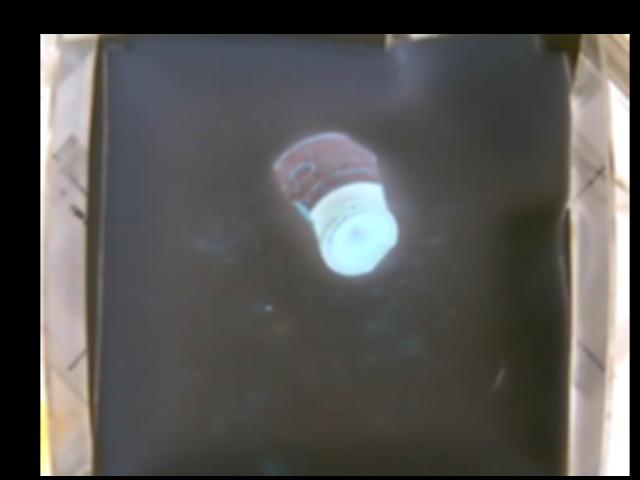China: (275, 133, 397, 270)
